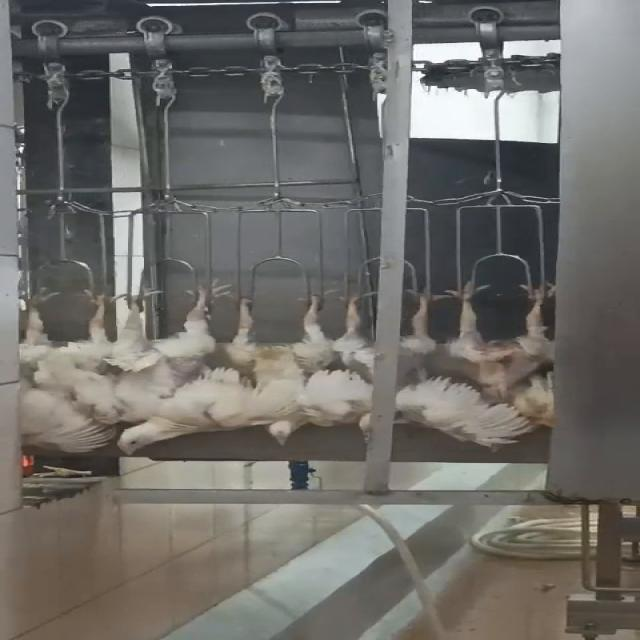chicken: (336, 285, 535, 449), (0, 286, 147, 458), (94, 280, 232, 460), (213, 289, 352, 449), (441, 280, 575, 430)
